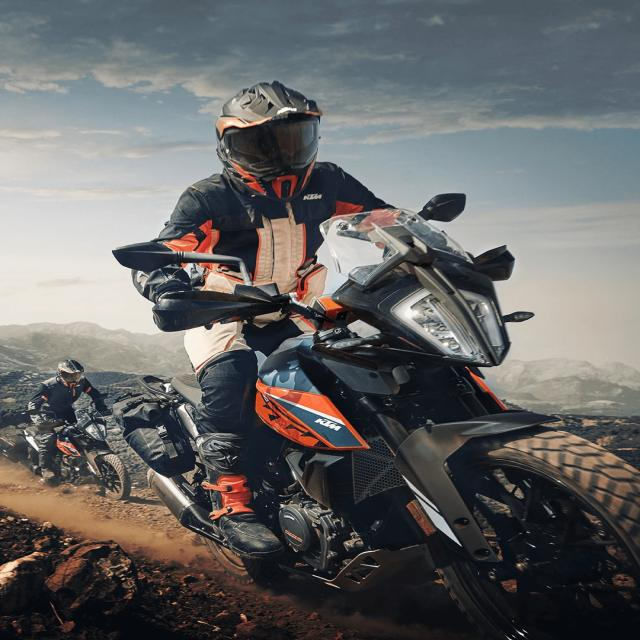Bike: (125, 226, 640, 631)
